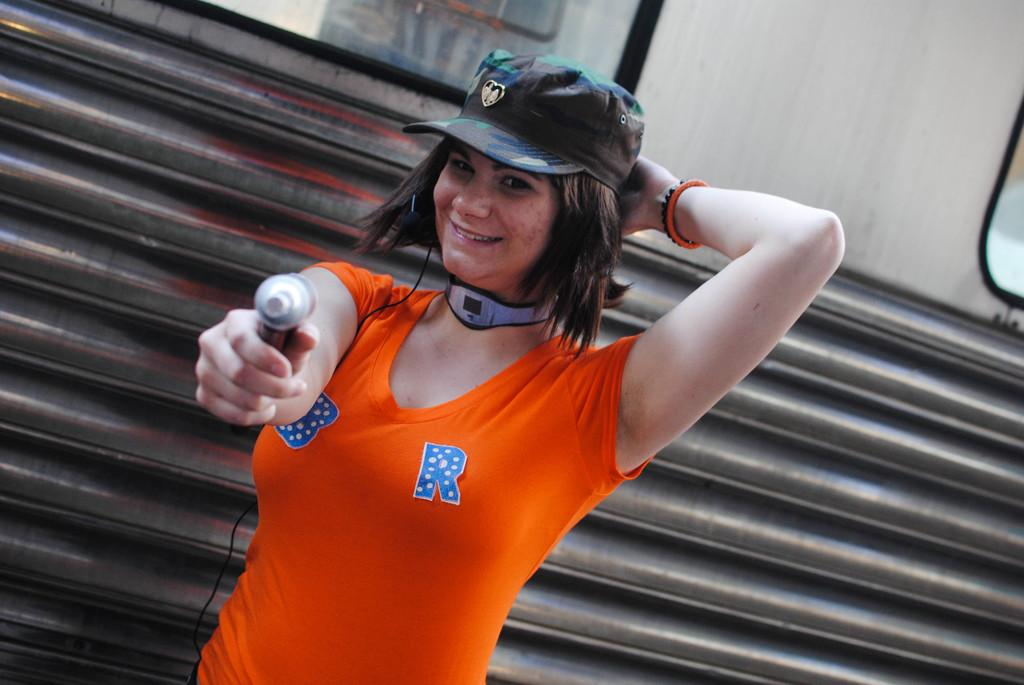Hat: (400, 48, 643, 202)
